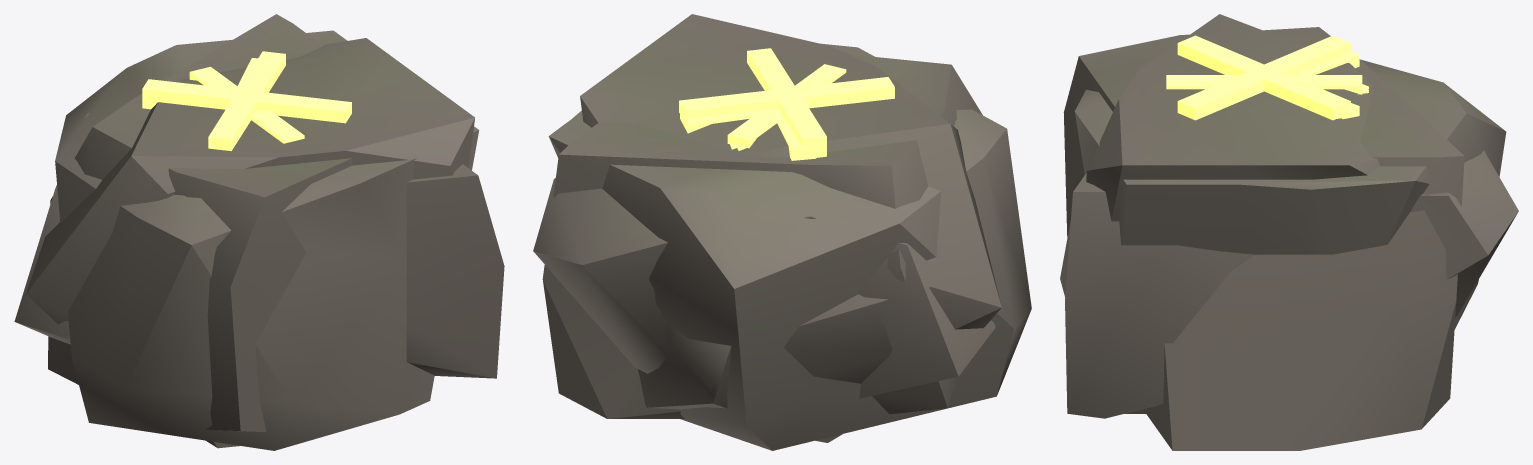
The model's file is knot_chunk.glb.
3 views of the same model, side by side, from view 1: azimuth 30°, elevation 25°; view 2: azimuth 150°, elevation 25°; view 3: azimuth 270°, elevation 25° (orthographic). The views are drawn at different scales.
Parts seen in each view (by area): view 1: chunk_b, chunk_d, chunk_a, chunk_c; view 2: chunk_b, chunk_d, chunk_a, chunk_c; view 3: chunk_a, chunk_d, chunk_c, chunk_b.
Boxes of the visible parts, <box> form: chunk_b: <box>55,30,479,450</box>; chunk_d: <box>26,38,474,448</box>; chunk_a: <box>48,14,352,432</box>; chunk_c: <box>14,112,504,378</box>; chunk_b: <box>548,43,1031,450</box>; chunk_d: <box>580,14,1001,442</box>; chunk_a: <box>542,54,982,418</box>; chunk_c: <box>533,177,995,398</box>; chunk_a: <box>1063,27,1464,450</box>; chunk_d: <box>1086,14,1478,329</box>; chunk_c: <box>1065,150,1518,418</box>; chunk_b: <box>1060,59,1506,413</box>.
Size of the model in its own units: 0.3223 by 0.2261 by 0.3046.
